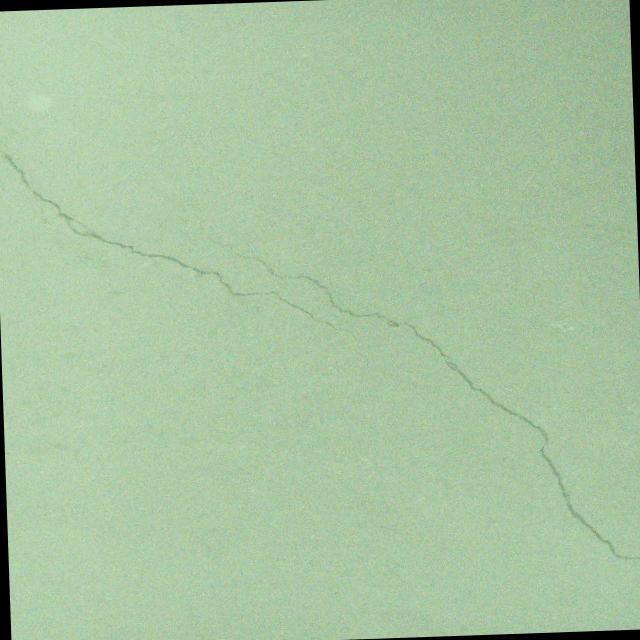crack: (191, 212, 640, 578), (0, 120, 371, 365), (352, 346, 423, 392), (575, 403, 640, 444)
